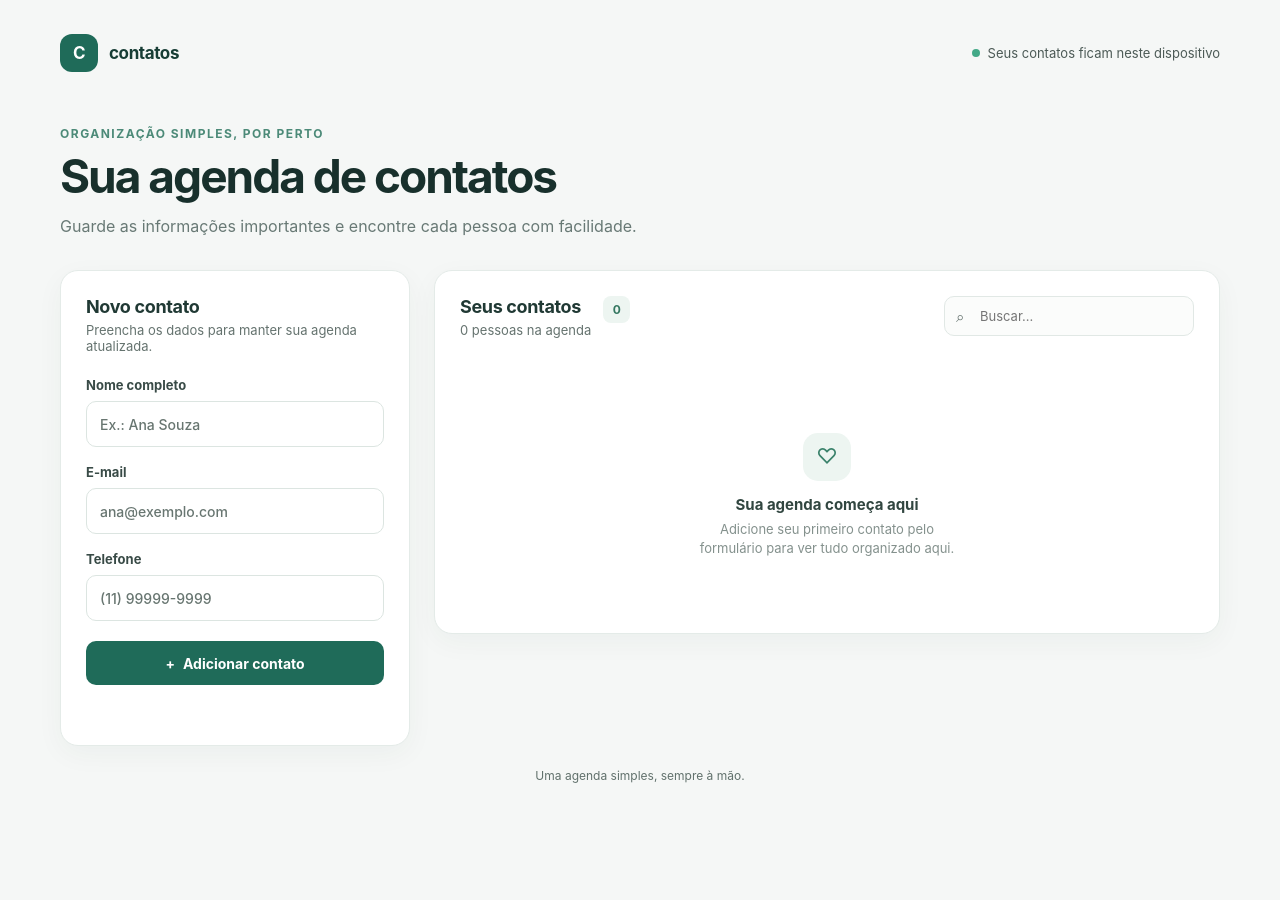
Test case: agenda de contatos › filtra contatos por nome, e-mail ou telefone
The image size is (1280, 900).
Type "Bia Costa" into the field labelled "Nome completo" at (235, 424), box [86, 401, 384, 447]
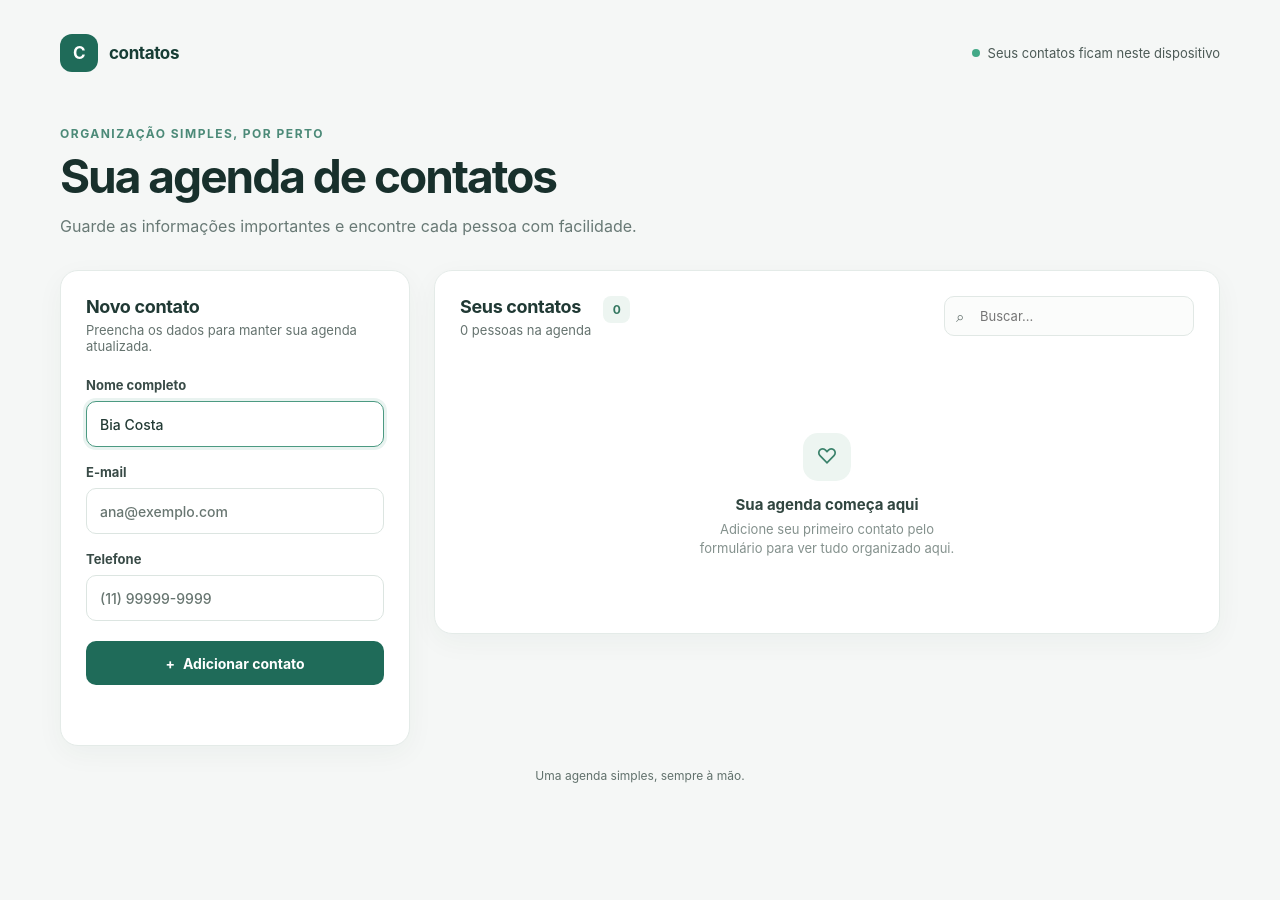
Type "bia@example.com" into the field labelled "E-mail" at (235, 511), box [86, 488, 384, 534]
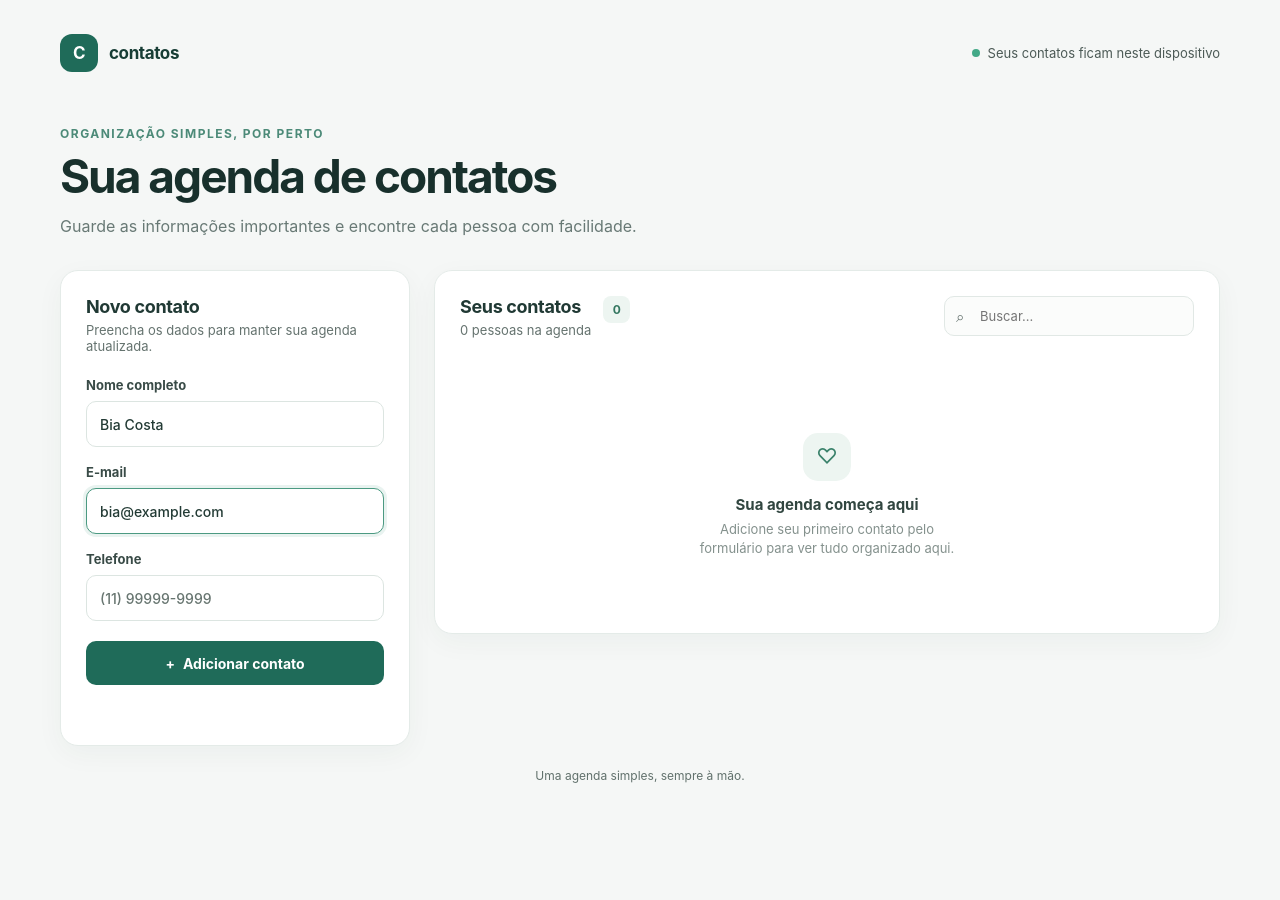
Type "21 98765-4321" into the field labelled "Telefone" at (235, 598), box [86, 575, 384, 621]
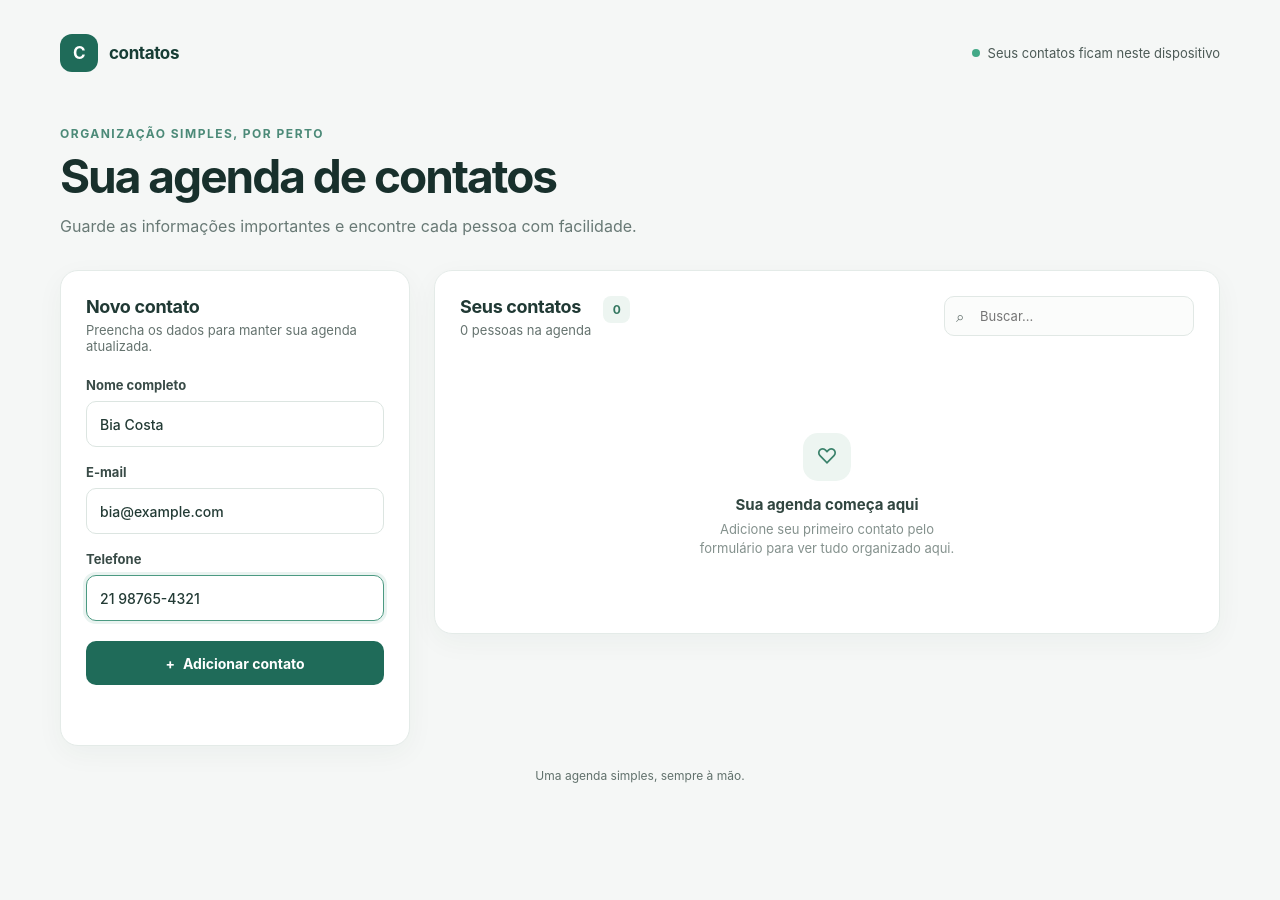
Click the button "+ Adicionar contato" at (235, 663), box [86, 641, 384, 685]
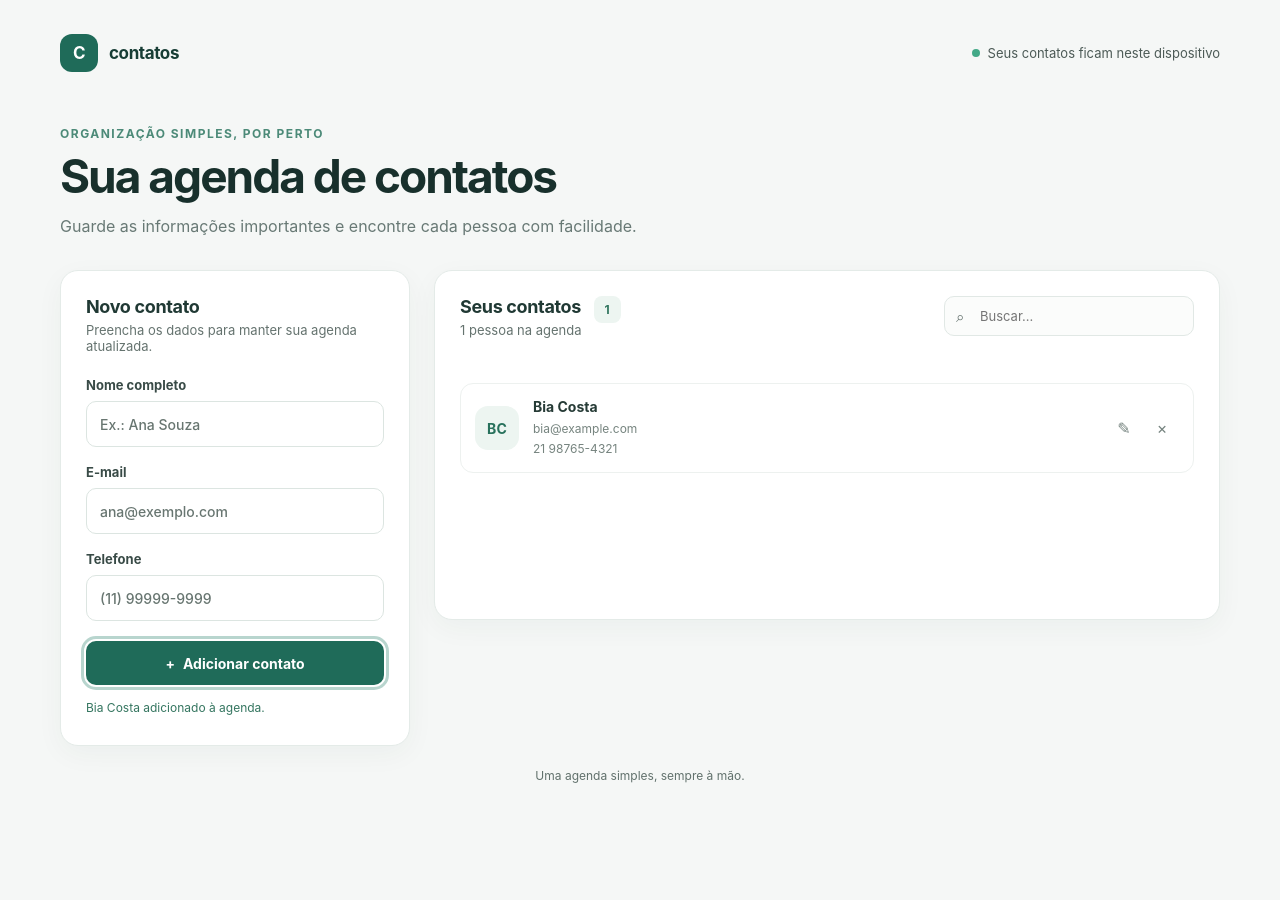
Type "98765" into the search field named "Buscar contatos" at (1069, 316), box [944, 296, 1194, 336]
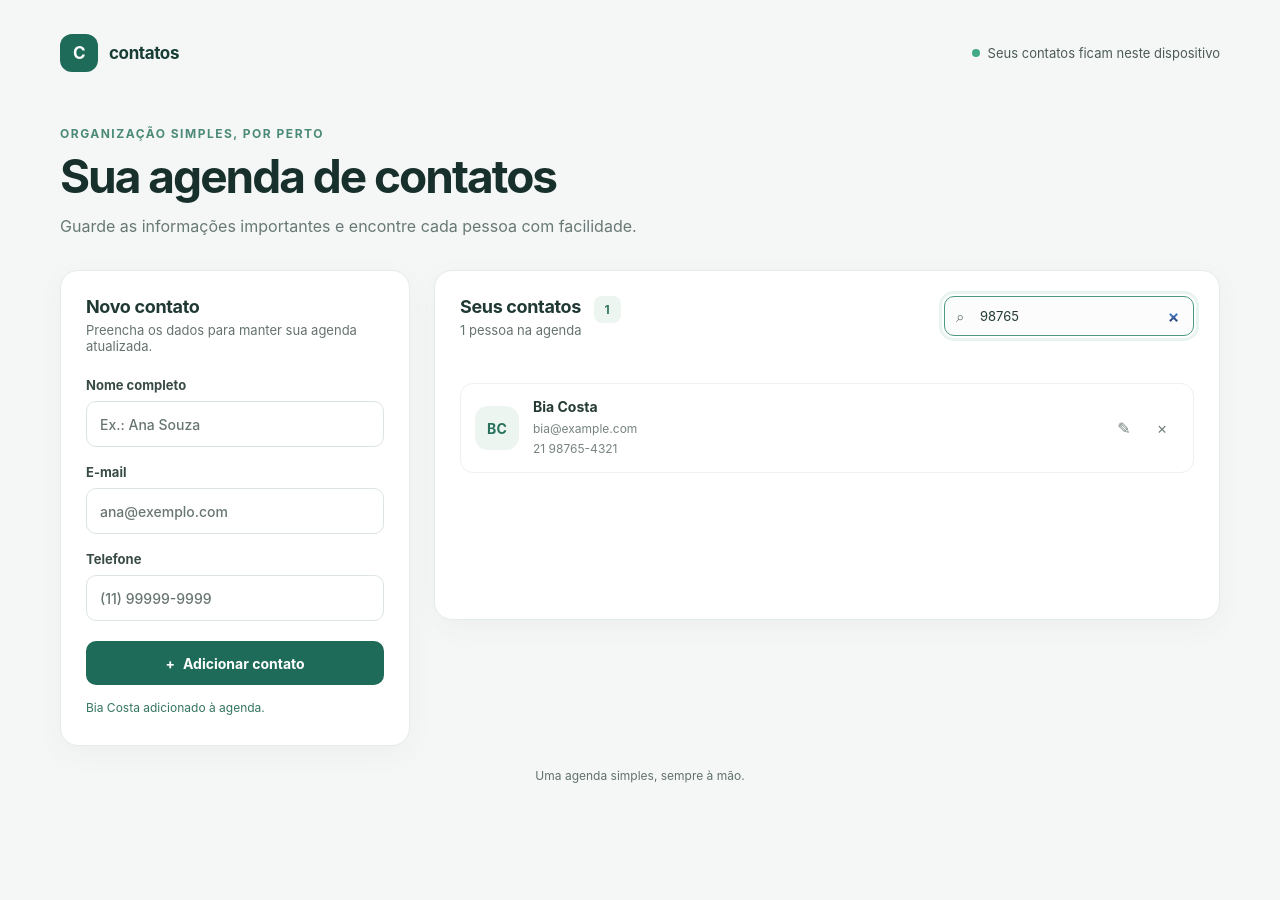
Expected: the heading "Bia Costa" is shown, [533, 398, 598, 415]
Replace the text in the search field named "Buscar contatos" with "não existe" at (1069, 316), box [944, 296, 1194, 336]
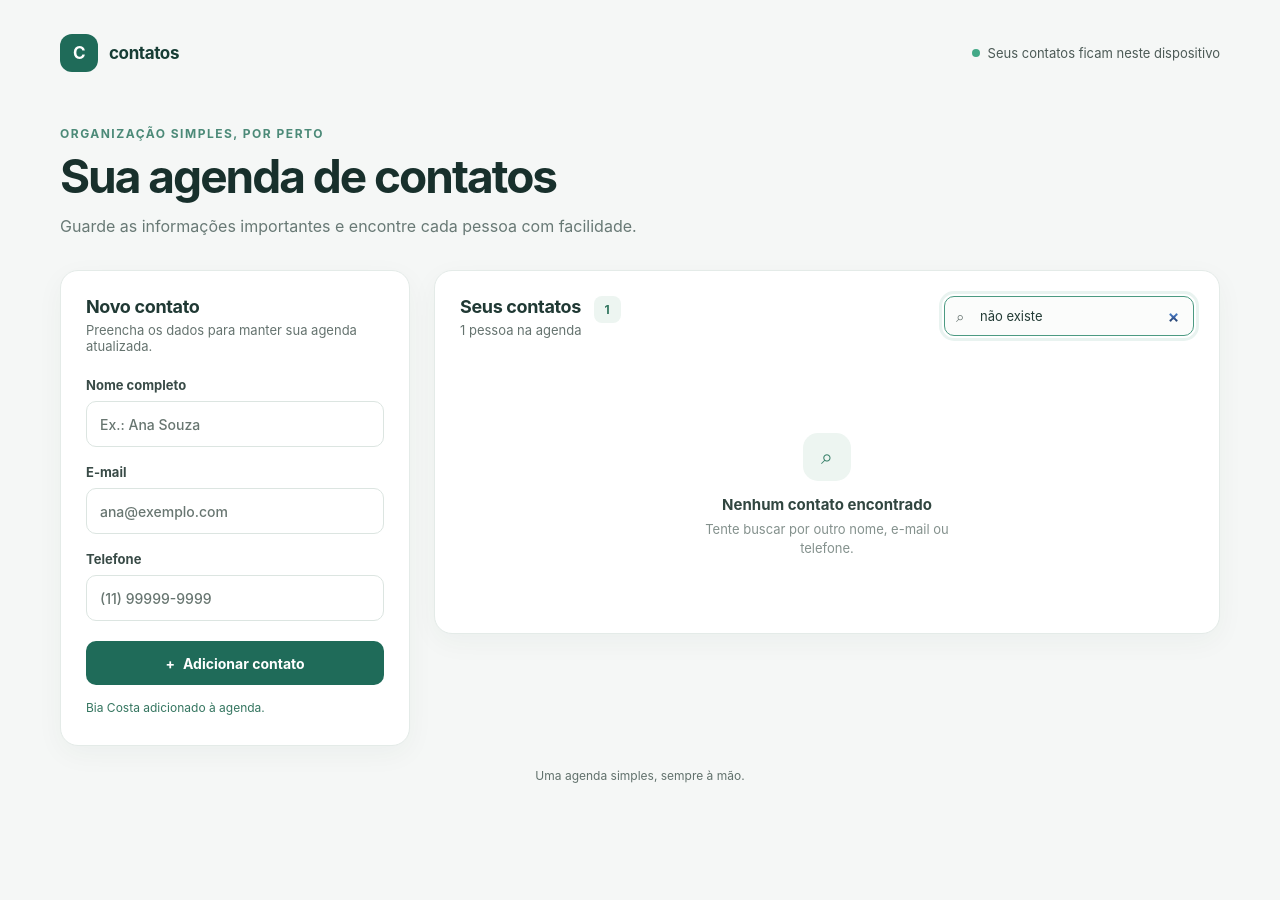
Expected: the heading "Nenhum contato encontrado" is shown, [722, 495, 932, 514]
